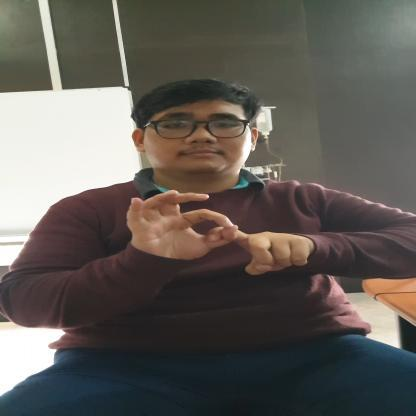Q: (127, 190, 314, 278)
